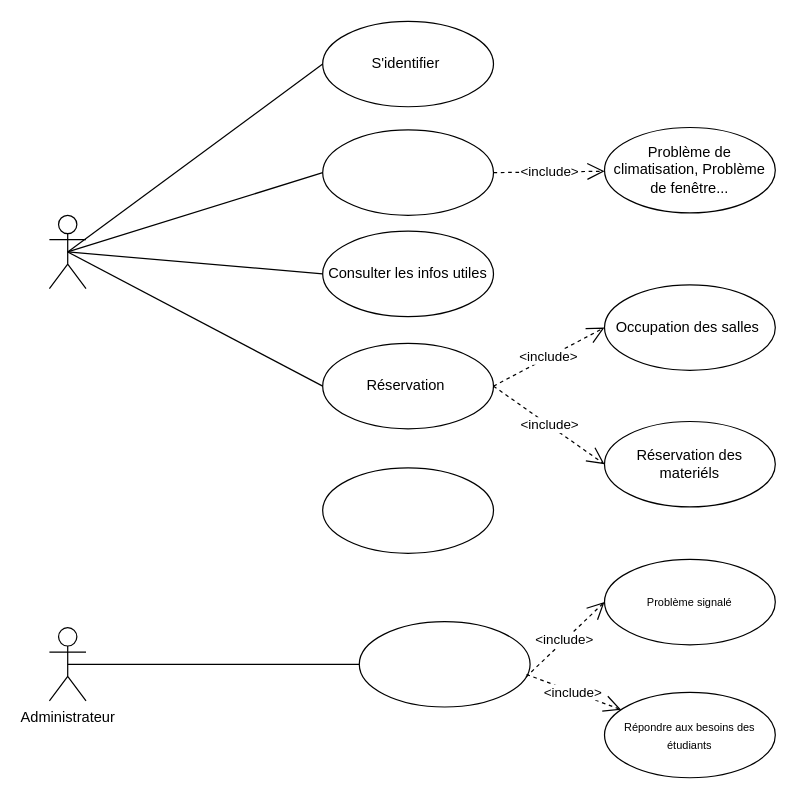
This 797x799 diagram has some shape labels left out. Here are the shapes that lost their labels. From the top down, the centre of each, then its label:
At point 407,172: "Signaler un problème".
At point 67,251: "Etudiant".
At point 407,510: "Contact".
At point 444,663: "Gérer les messages des étudiants".
